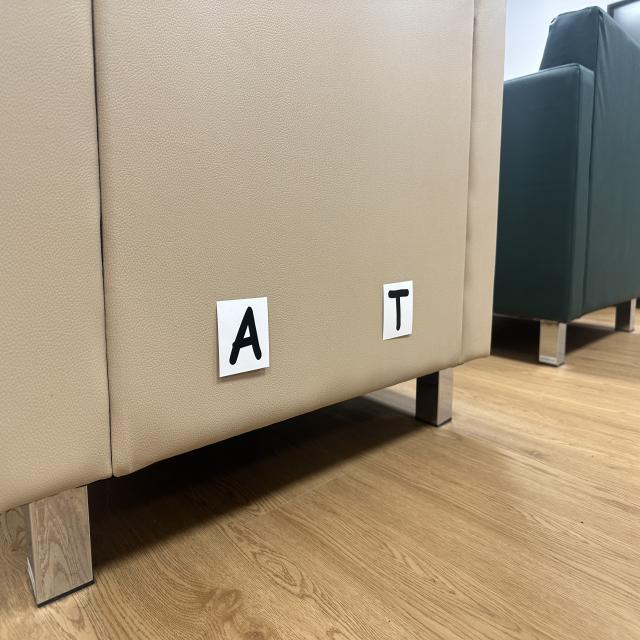A: (229, 307, 261, 365)
T: (388, 288, 409, 332)
